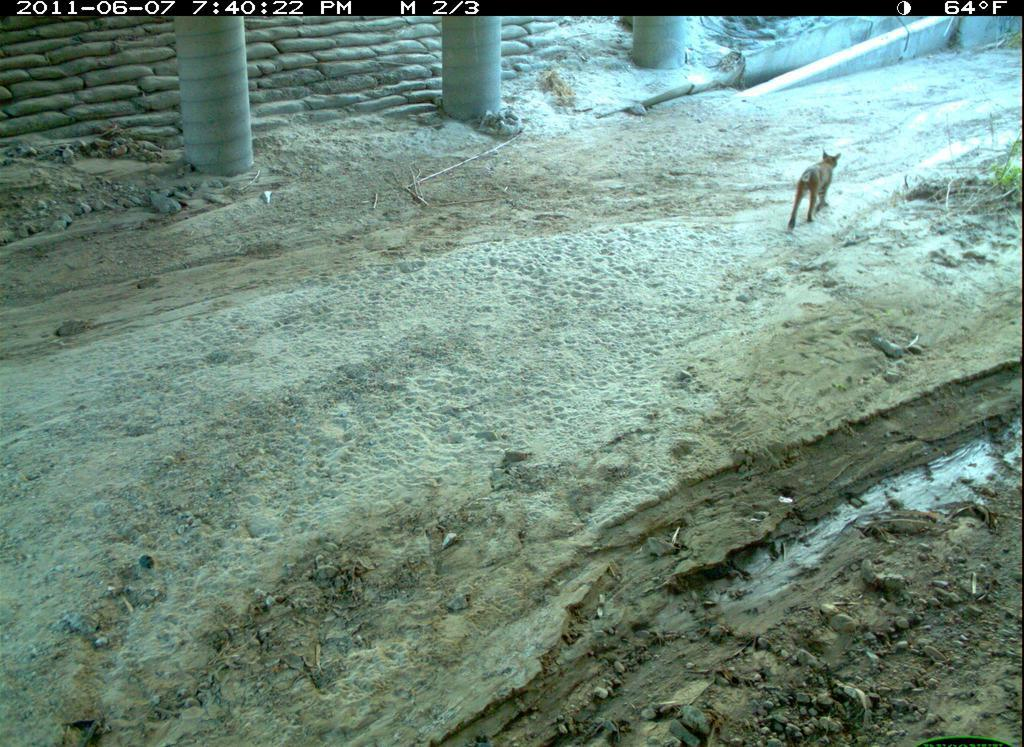bobcat: (788, 146, 852, 237)
